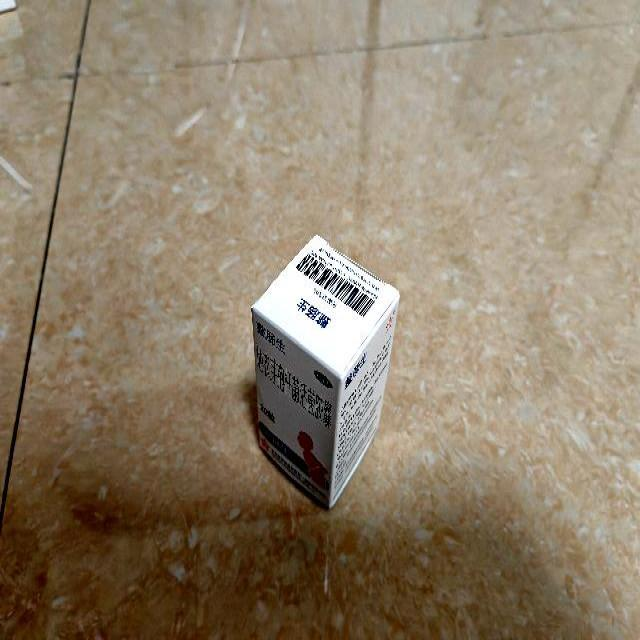box: (250, 232, 400, 508)
